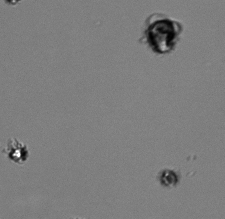Dead Cell: (146, 19, 178, 56), (159, 170, 178, 187)
Living Cell: (9, 148, 25, 162)
